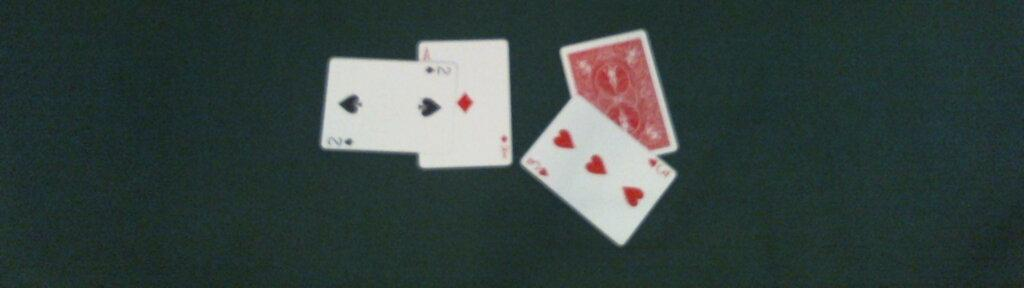ace: (418, 38, 513, 167)
back: (560, 28, 679, 163)
three: (520, 95, 677, 247)
two: (320, 56, 459, 154)
